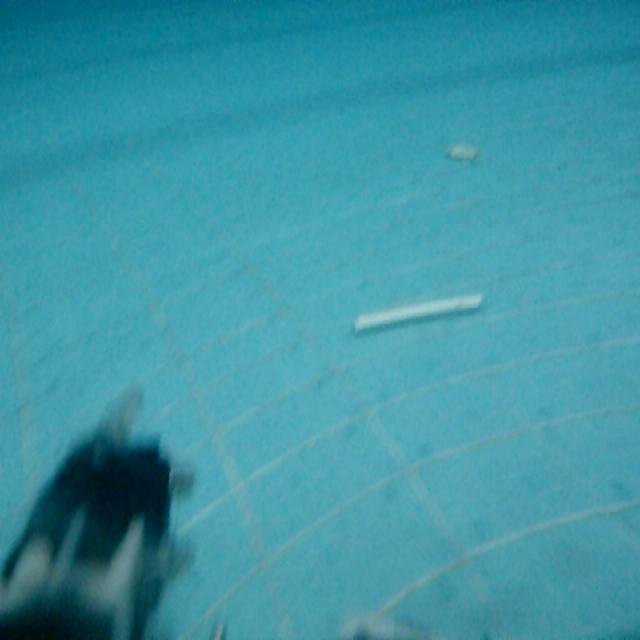Cube: (351, 287, 485, 336)
